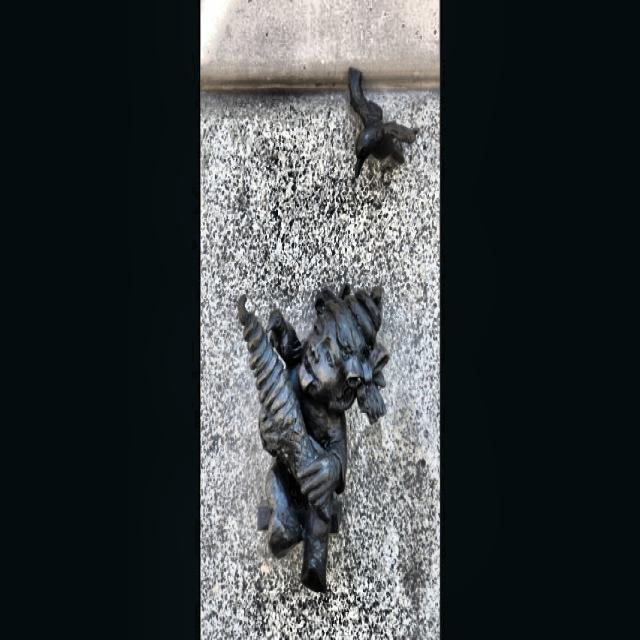Dziupelka: (238, 285, 390, 595), (349, 68, 418, 178)
